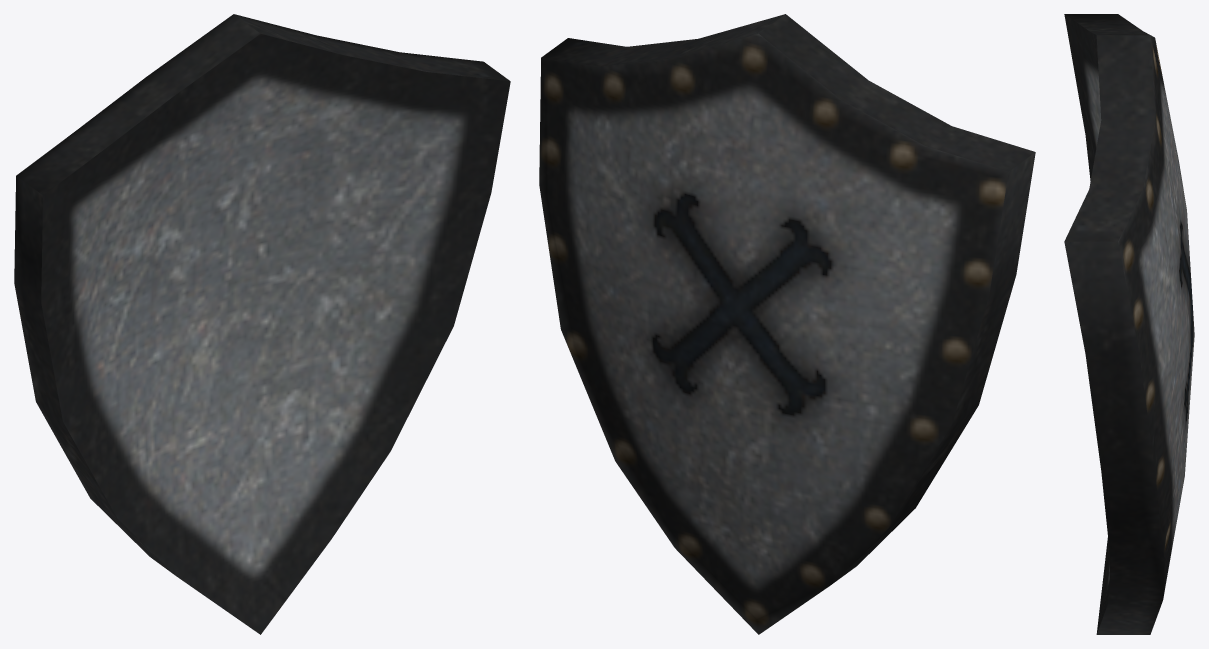
The model's file is GAM0210020.fbx.
3 renders of one model, left to right at view 1: azimuth 30°, elevation 25°; view 2: azimuth 150°, elevation 25°; view 3: azimuth 270°, elevation 25°, orthographic.
Parts seen in each view (by area): view 1: smGAM0210020; view 2: smGAM0210020; view 3: smGAM0210020.
Boxes of the visible parts, x1=… form: smGAM0210020: x1=14, y1=14, x2=510, y2=634; smGAM0210020: x1=539, y1=14, x2=1035, y2=634; smGAM0210020: x1=1064, y1=14, x2=1194, y2=634.
Bounding box in the file's own units: 59.23 × 72.77 × 14.33.
1 material, 1 textured.
